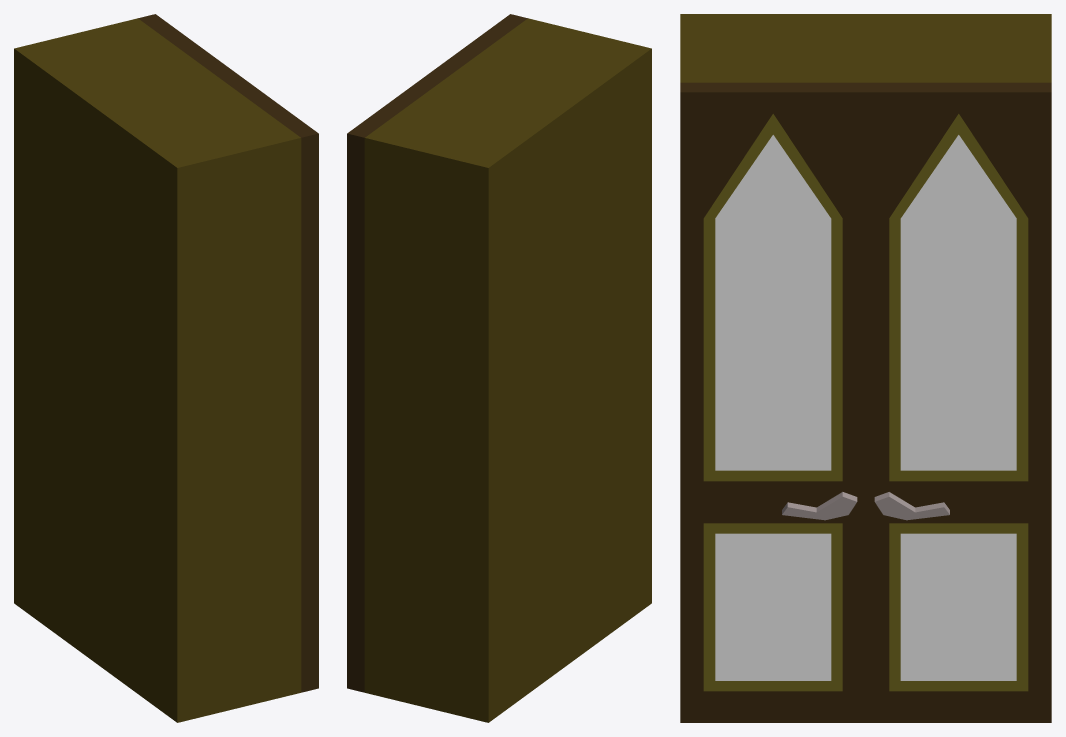
The model's file is obj_cabinet_3_0.obj.
3 views of the same model, side by side, from view 1: azimuth 30°, elevation 25°; view 2: azimuth 150°, elevation 25°; view 3: azimuth 270°, elevation 25° (orthographic). The views are drawn at different scales.
Bounding box in the file's own units: 0.5312 × 1.88 × 1.
